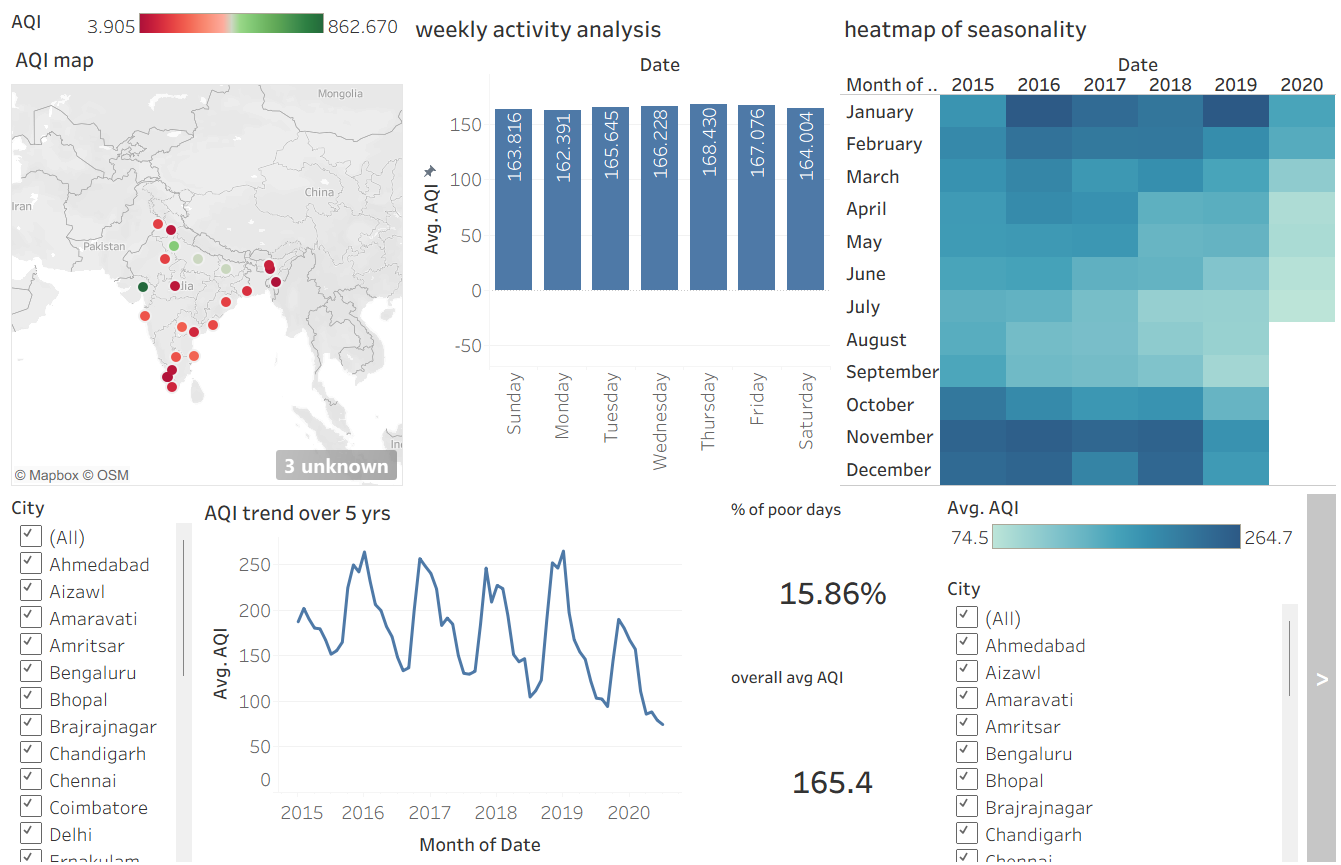

The dashboard page shown, as its layout file describes it:
{"tool":"tableau","page":{"name":"Geographic & Seasonal Trends","canvas":[1000,1000],"units":"permille","ordinal":0},"visuals":[{"type":"legend","title":"1.AQI Health Categories Map","param":"[federated.1en589u0y8ydwm1g86rmy0cmkoeu].[sum:AQI:qk]","box":[5.9,9.1,296.8,36.4]},{"type":"worksheet","title":"Weekly Activity Analysis","mark":"Bar","rows":["AQI"],"cols":["Date"],"box":[302.8,9.1,317.4,545.6]},{"type":"worksheet","title":"5Heatmap for Seasonality","mark":"Square","rows":["Date"],"cols":["Date"],"box":[620.1,9.1,373.9,490.9]},{"type":"worksheet","title":"1.AQI Health Categories Map","mark":"Circle","box":[5.9,45.6,296.8,355.4]},{"type":"legend","title":"6.Year-over-Year","param":"[federated.1en589u0y8ydwm1g86rmy0cmkoeu].[yr:Date:ok]","box":[5.9,400.9,296.8,153.8]},{"type":"filter","title":"4.AQI Trend Over 5 Years","param":"[federated.1en589u0y8ydwm1g86rmy0cmkoeu].[none:City:nk]","box":[5.9,554.7,140.1,436.2]},{"type":"worksheet","title":"4.AQI Trend Over 5 Years","mark":"Line","rows":["AQI"],"cols":["Date"],"box":[146,554.7,292.1,436.2]},{"type":"worksheet","title":"2.% of Poor Days","mark":"Automatic","box":[438.1,554.7,172.7,198.2]},{"type":"worksheet","title":"6.Year-over-Year","mark":"Automatic","rows":["AQI"],"cols":["Date"],"box":[610.8,554.7,236.5,436.2]},{"type":"legend","title":"5Heatmap for Seasonality","param":"[federated.1en589u0y8ydwm1g86rmy0cmkoeu].[avg:AQI:qk]","box":[847.3,554.7,119,92.2]},{"type":"dashboard-object","box":[966.3,554.7,27.8,436.2]},{"type":"filter","title":"5Heatmap for Seasonality","param":"[federated.1en589u0y8ydwm1g86rmy0cmkoeu].[none:City:nk]","box":[847.3,646.9,119,344]},{"type":"worksheet","title":"2.Overall Avg AQI","mark":"Text","box":[438.1,752.9,172.7,238]}]}

Visuals, with their boxes on the dashboard's canvas, which has no fixed pixel size, in thousandths of its width and height (x1, y1, x2, y2). These are canvas units, not pixel positions in the 1341x865 screenshot, which may show the page scaled, cropped or inside an application window:
"1.AQI Health Categories Map" legend: box(6, 9, 303, 46)
"Weekly Activity Analysis" worksheet (Bar marks): box(303, 9, 620, 555)
"5Heatmap for Seasonality" worksheet (Square marks): box(620, 9, 994, 500)
"1.AQI Health Categories Map" worksheet (Circle marks): box(6, 46, 303, 401)
"6.Year-over-Year" legend: box(6, 401, 303, 555)
"4.AQI Trend Over 5 Years" filter: box(6, 555, 146, 991)
"4.AQI Trend Over 5 Years" worksheet (Line marks): box(146, 555, 438, 991)
"2.% of Poor Days" worksheet: box(438, 555, 611, 753)
"6.Year-over-Year" worksheet: box(611, 555, 847, 991)
"5Heatmap for Seasonality" legend: box(847, 555, 966, 647)
dashboard-object: box(966, 555, 994, 991)
"5Heatmap for Seasonality" filter: box(847, 647, 966, 991)
"2.Overall Avg AQI" worksheet (Text marks): box(438, 753, 611, 991)
